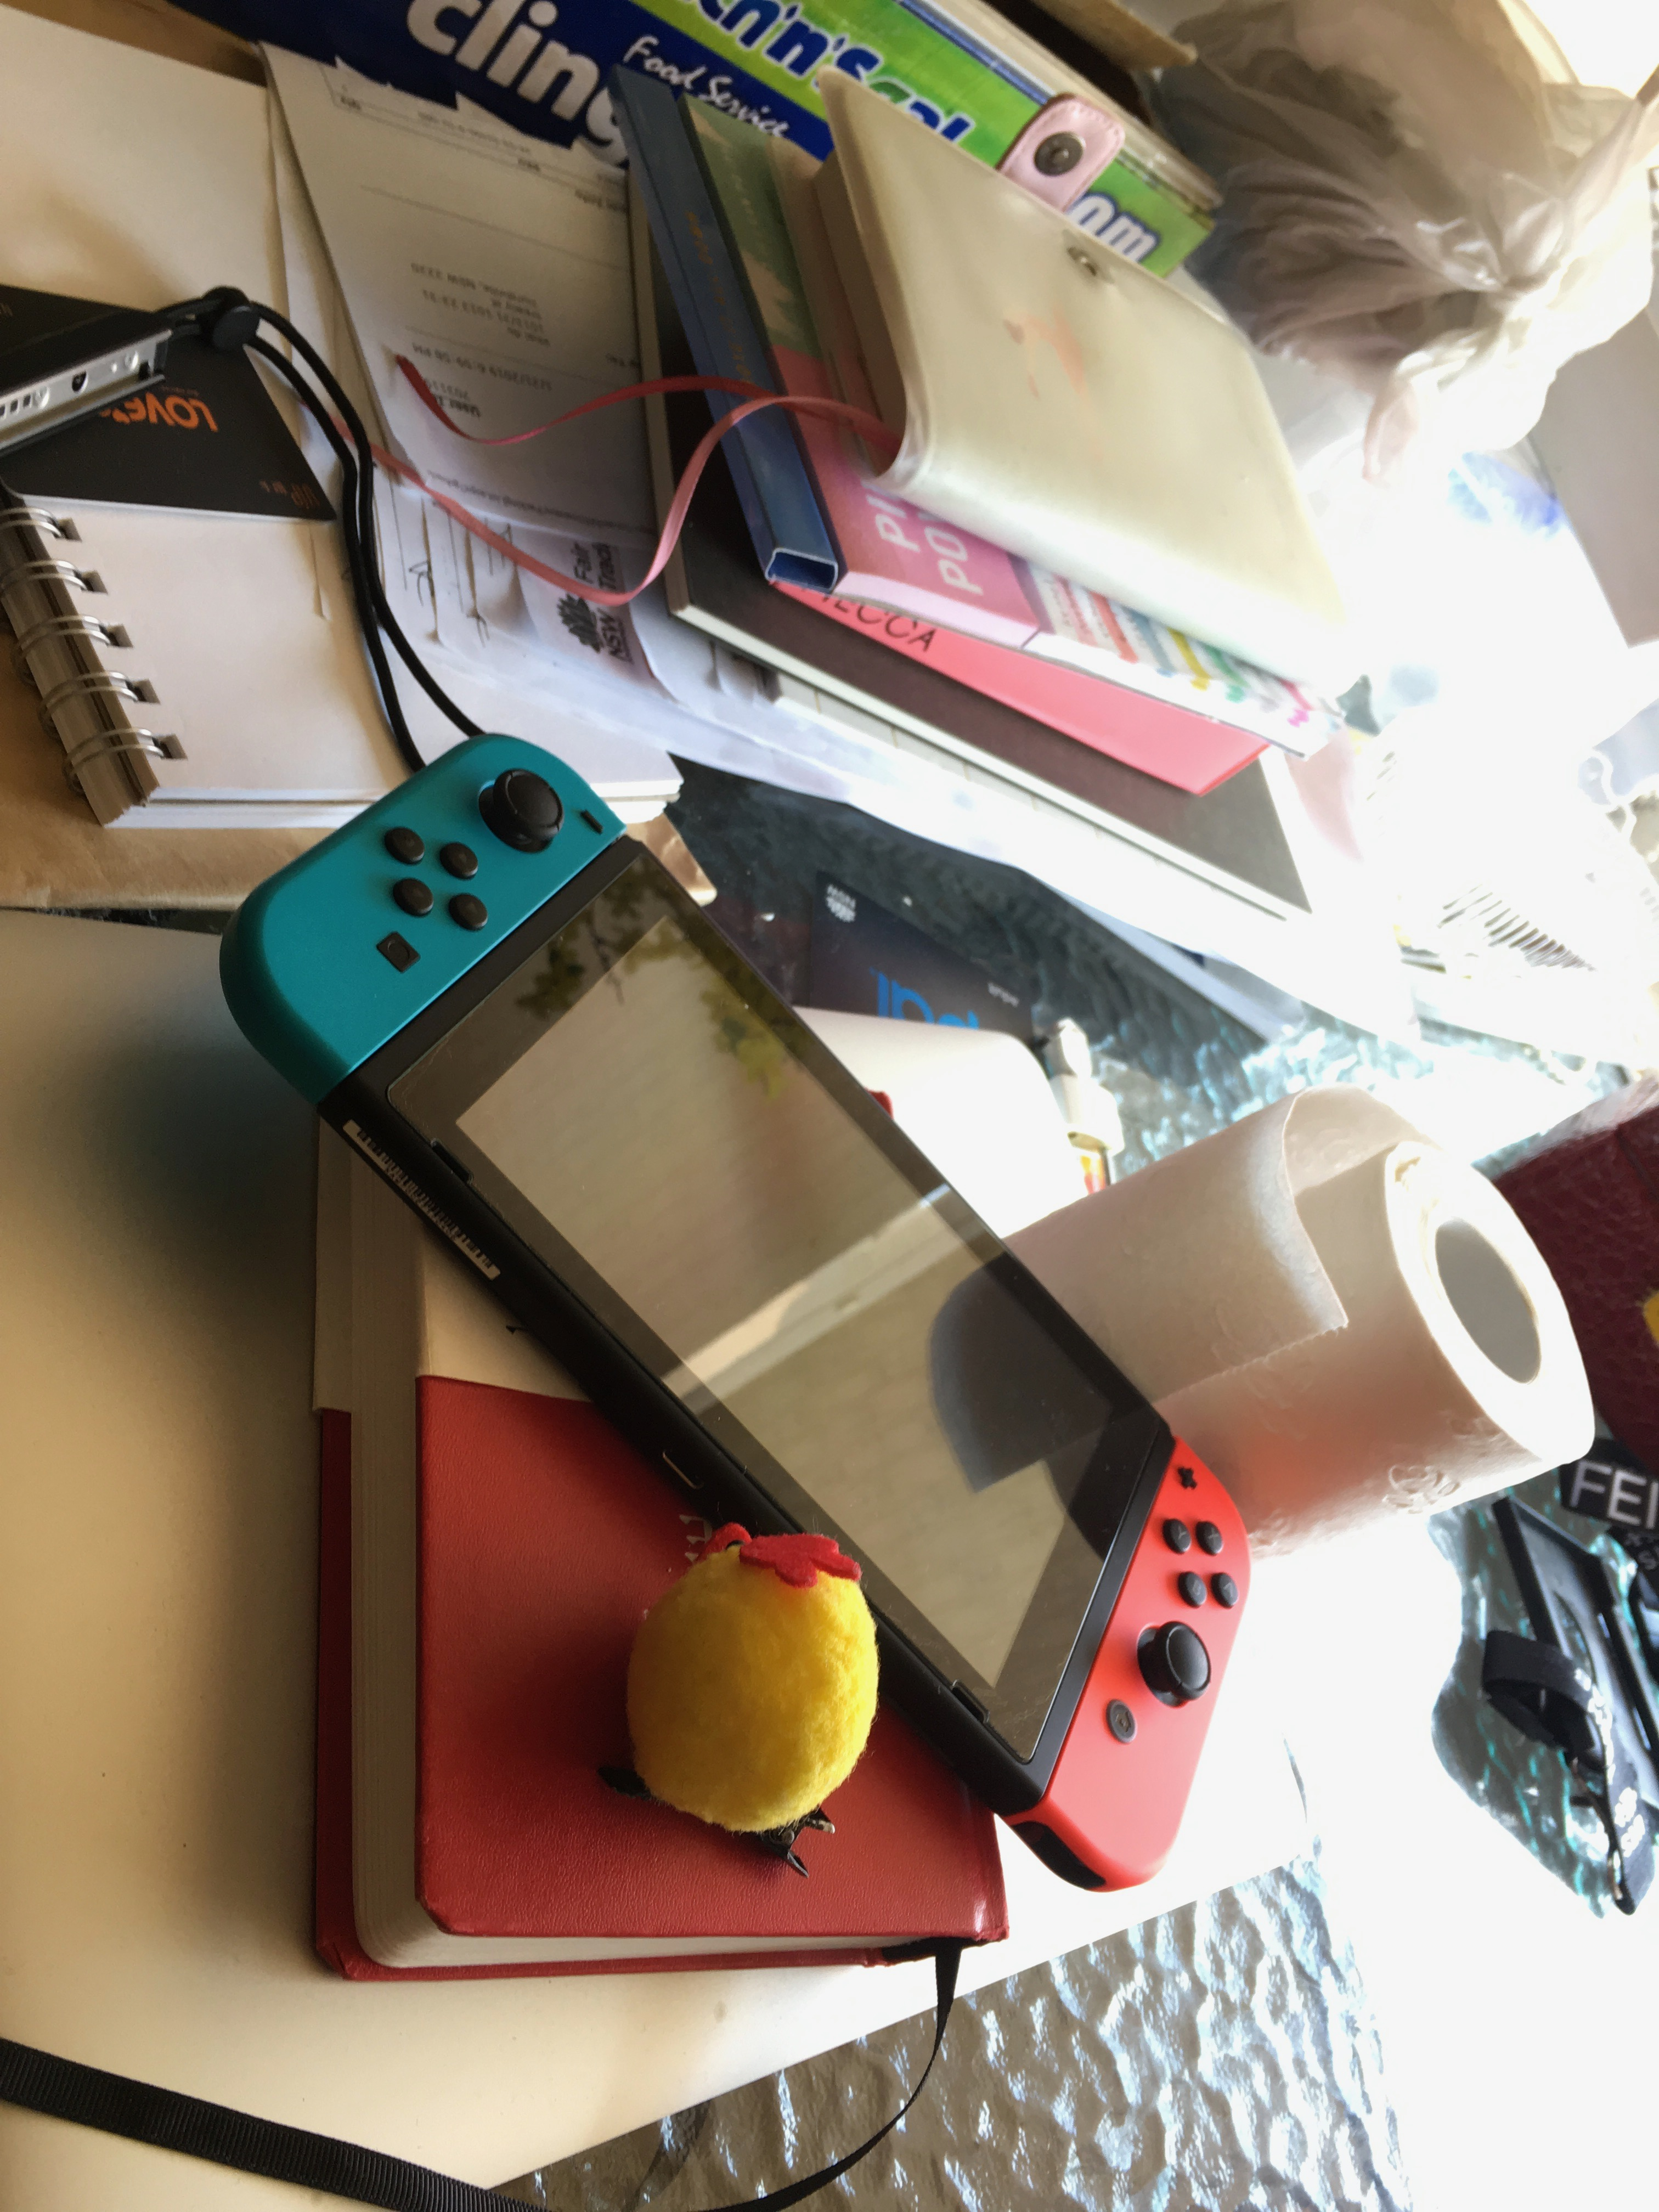NintendoSwitch: (188, 716, 1279, 1916)
